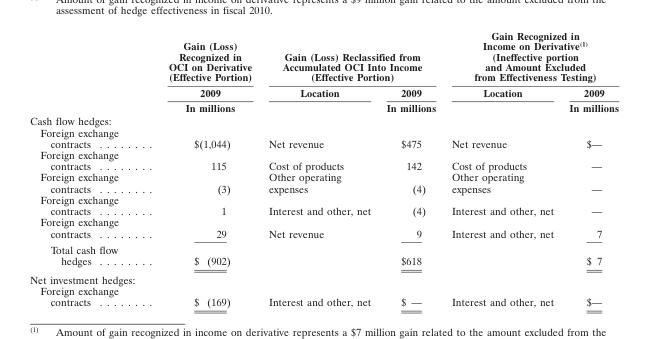table: (29, 29, 618, 307)
table column: (259, 29, 377, 307), (443, 29, 560, 307), (143, 29, 259, 307), (29, 29, 143, 307), (377, 29, 443, 307), (560, 29, 618, 307)
table column header: (29, 29, 618, 114)
table projected row header: (29, 269, 618, 284), (29, 114, 618, 126)
table row: (29, 29, 618, 84), (29, 84, 618, 114), (29, 241, 618, 269), (29, 216, 618, 241), (29, 148, 618, 171), (29, 193, 618, 216), (29, 284, 618, 307), (29, 126, 618, 148), (29, 171, 618, 193), (29, 269, 618, 284), (29, 114, 618, 126)
table spanning cell: (259, 29, 443, 84), (143, 29, 259, 114), (443, 29, 618, 84)
